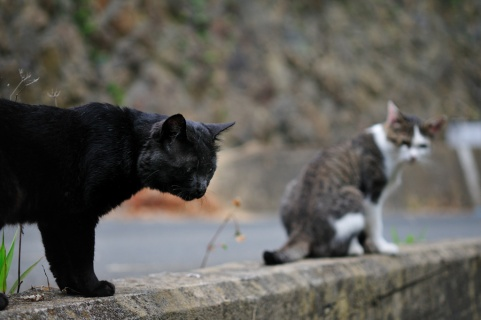Cat: (0, 94, 236, 296), (259, 96, 451, 259)
